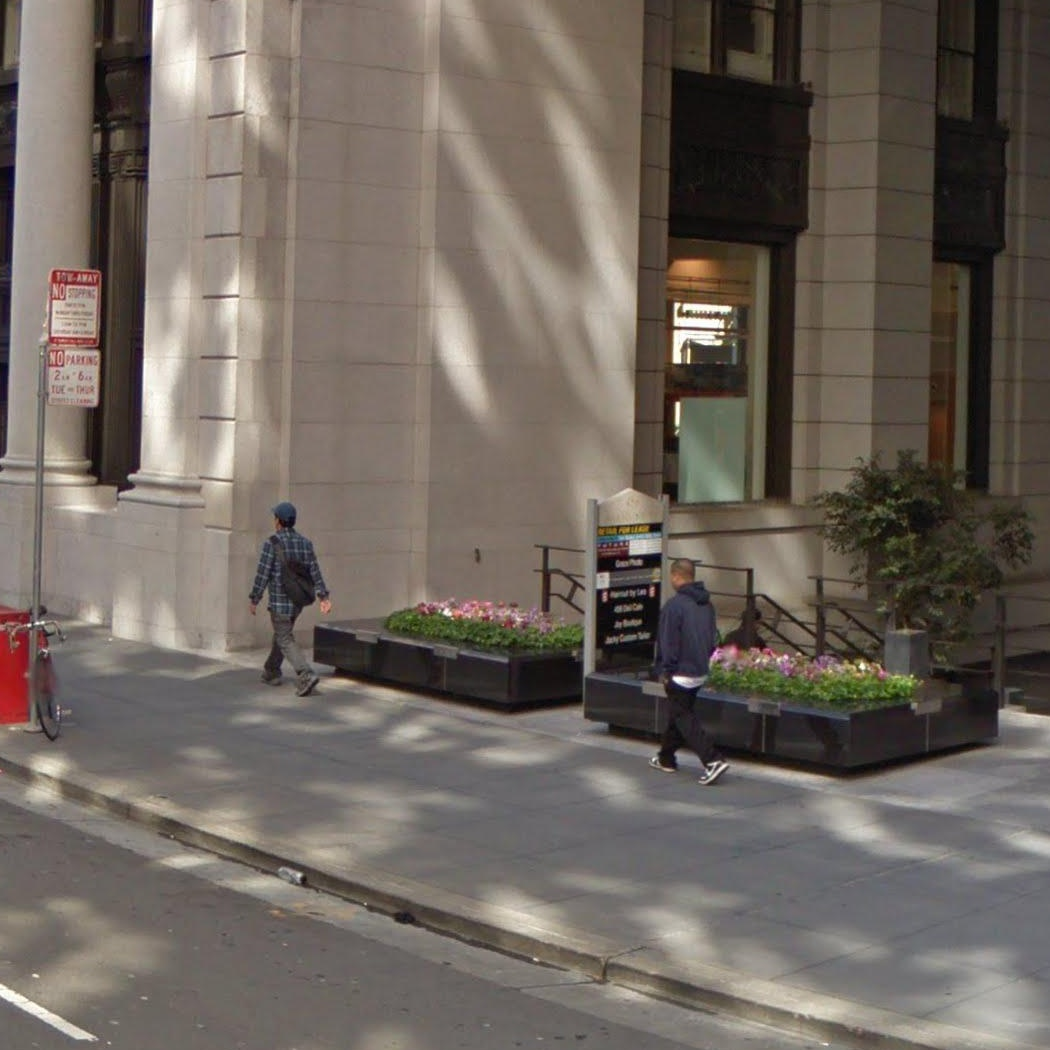No Parking: (46, 346, 101, 408)
